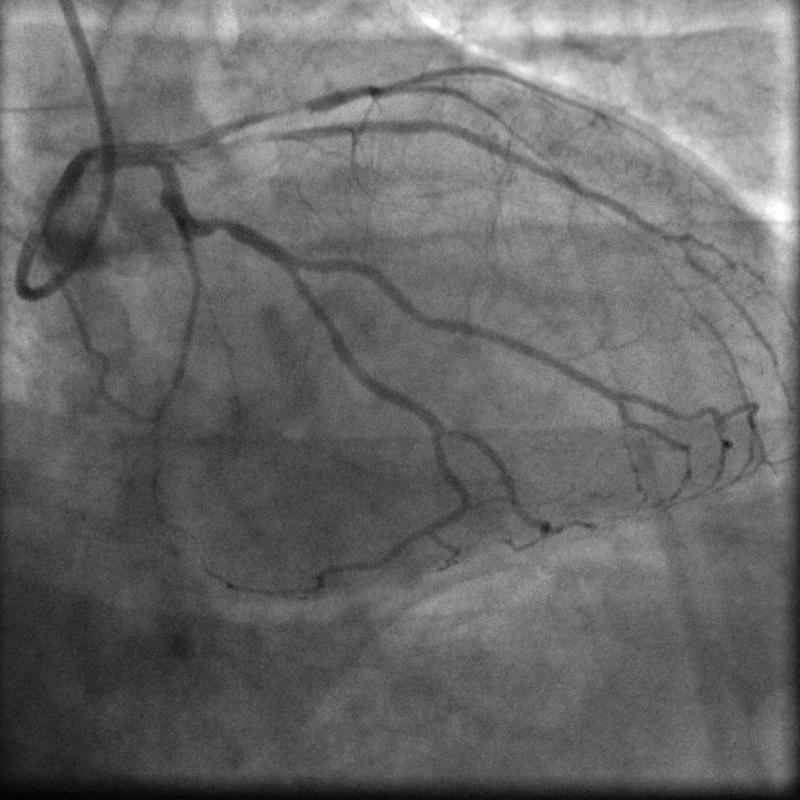Stenosis: (205, 213, 240, 238)
